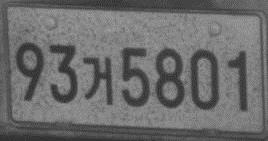0: (190, 49, 219, 110)
1: (228, 47, 248, 113)
3: (49, 44, 77, 103)
5: (121, 46, 150, 106)
8: (154, 47, 185, 108)
9: (15, 42, 44, 102)
거: (82, 55, 115, 106)
